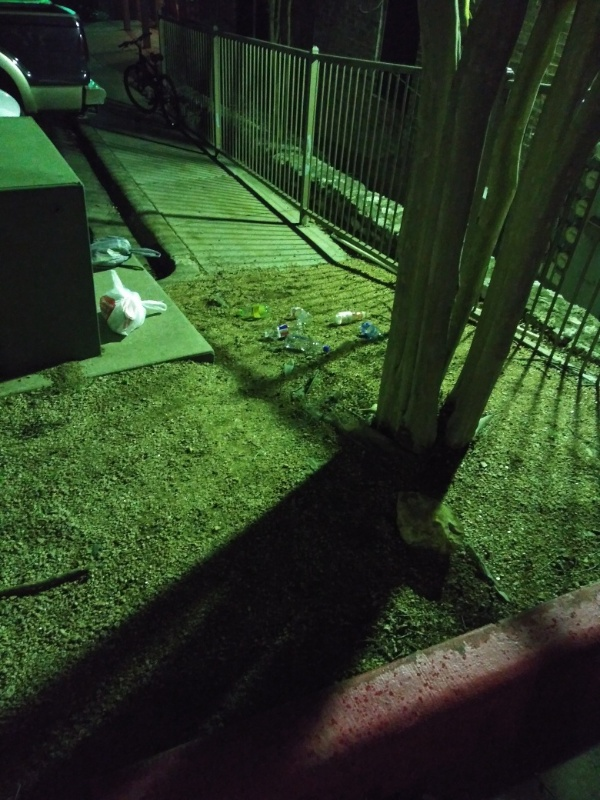bottle: (284, 334, 333, 358), (262, 318, 309, 339), (355, 321, 389, 343), (330, 308, 370, 325), (286, 305, 316, 322)
